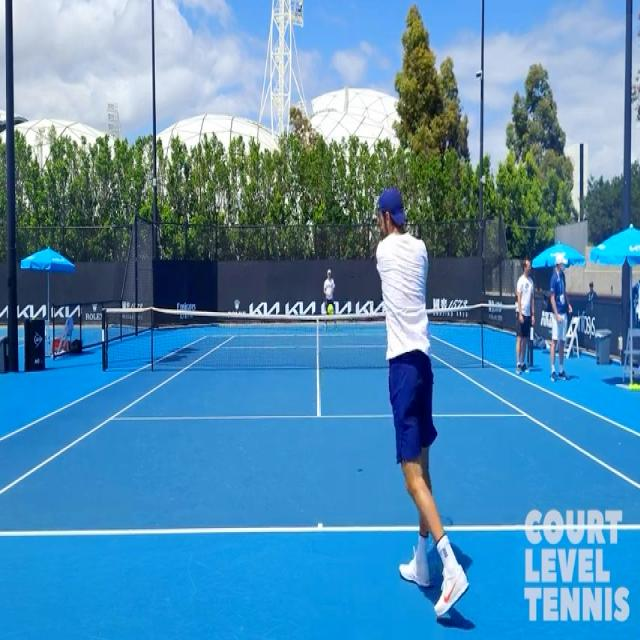backhand-stroke: (356, 181, 470, 629)
